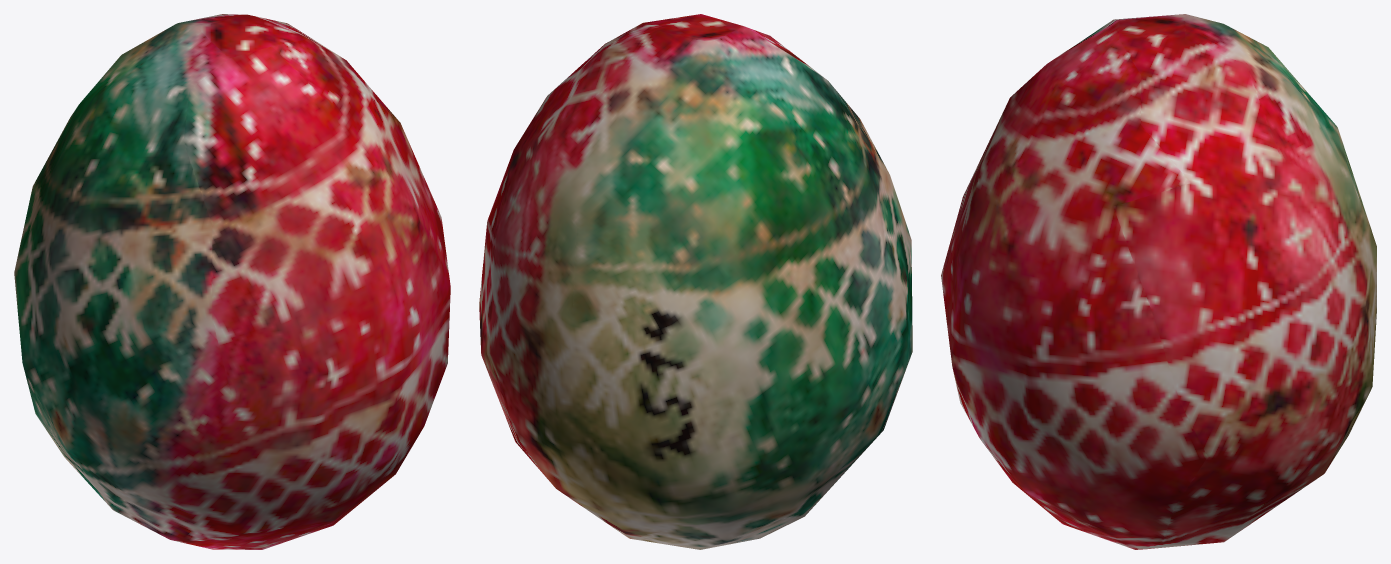
The picture shows the model from 3 angles, left to right: view 1: azimuth 30°, elevation 25°; view 2: azimuth 150°, elevation 25°; view 3: azimuth 270°, elevation 25°; orthographic projection.
Visible parts, largest first — view 1: pMesh1; view 2: pMesh1; view 3: pMesh1.
Part boxes in pixels (x1,y1,x2,y2): pMesh1: (14,14,450,549); pMesh1: (479,14,912,549); pMesh1: (941,14,1376,549).
Bounding box in the file's own units: 41.29 × 52.58 × 41.18.
Materials: 1 (1 with a texture image).
